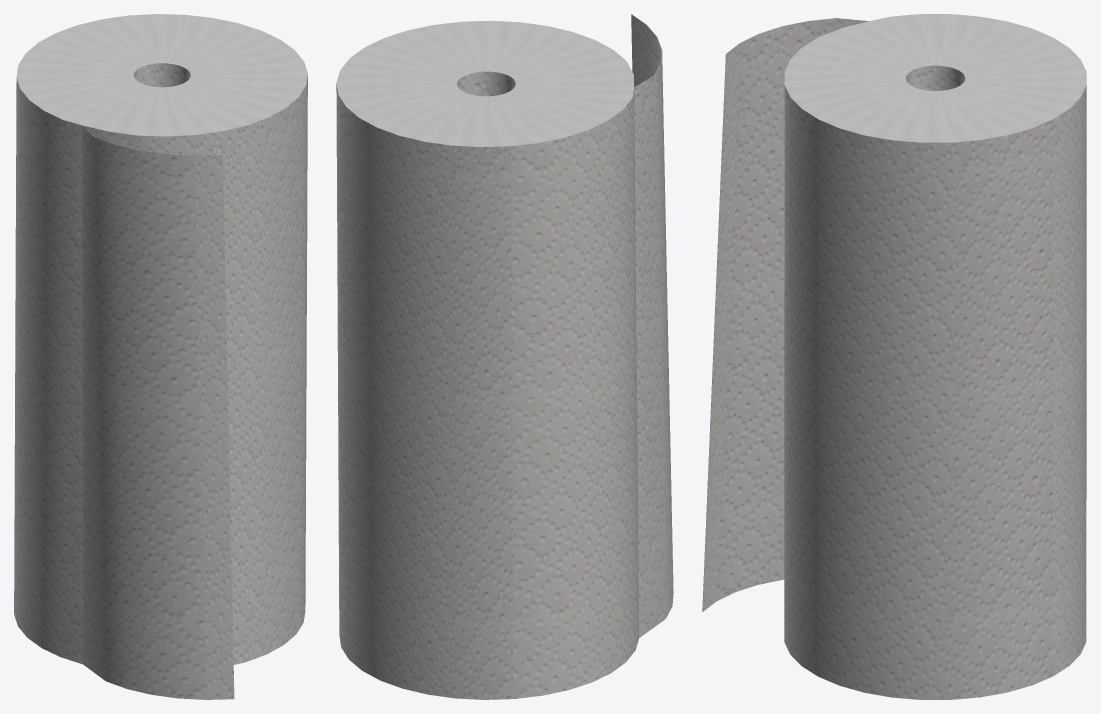
The model's file is Kitchen roll.fbx.
3 renders of one model, left to right at view 1: azimuth 30°, elevation 25°; view 2: azimuth 150°, elevation 25°; view 3: azimuth 270°, elevation 25°, orthographic. The views are drawn at different scales.
Visible parts, largest first — view 1: kitchen roll; view 2: kitchen roll; view 3: kitchen roll.
Boxes of the visible parts, x1,y1,x2,y2 form: kitchen roll: (14, 14, 307, 699); kitchen roll: (336, 14, 673, 699); kitchen roll: (702, 14, 1086, 699).
Bounding box in the file's own units: 10.06 × 20.47 × 12.66.
Materials: 1 (1 with a texture image).
